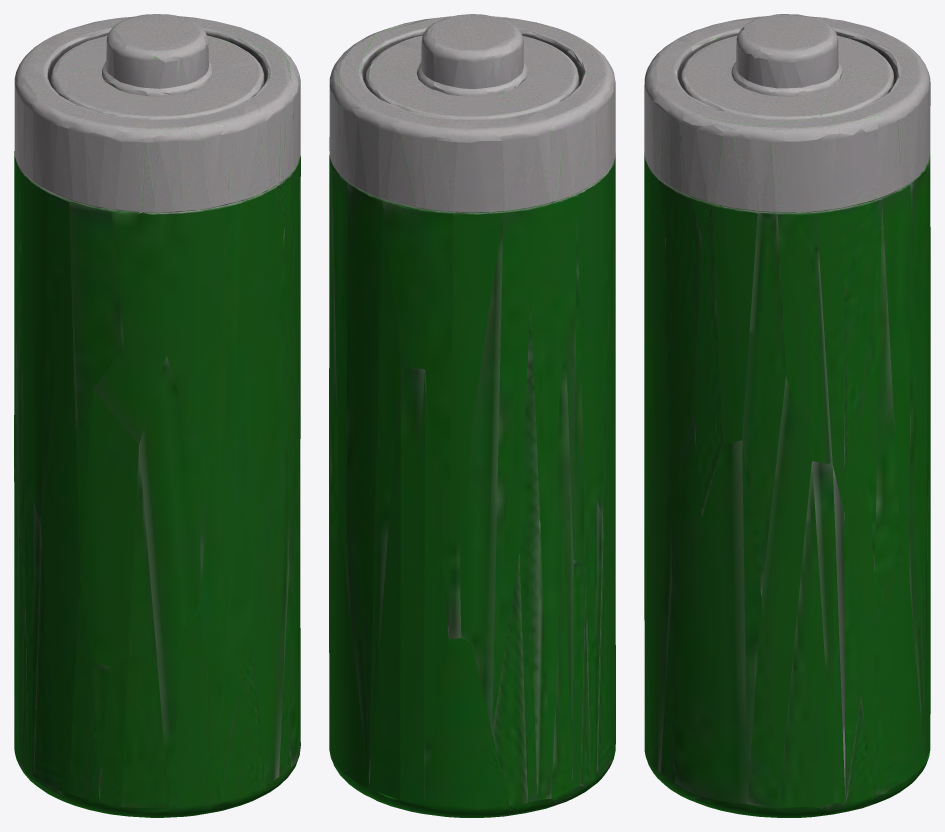
Rendered from battery.glb.
3 views of the same model, side by side, from view 1: azimuth 30°, elevation 25°; view 2: azimuth 150°, elevation 25°; view 3: azimuth 270°, elevation 25° (orthographic).
Visible parts, largest first — view 1: output_unwrapped; view 2: output_unwrapped; view 3: output_unwrapped.
Part boxes in pixels (x1,y1,x2,y2): output_unwrapped: (14, 14, 300, 817); output_unwrapped: (329, 14, 615, 817); output_unwrapped: (644, 14, 930, 817).
Size of the model in its own units: 0.6749 by 1.9 by 0.6745.
Materials: 1 (1 with a texture image).
